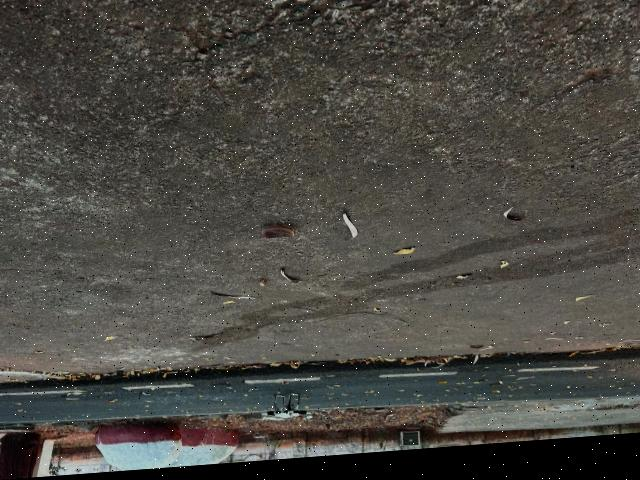drone: (258, 379, 314, 453)
